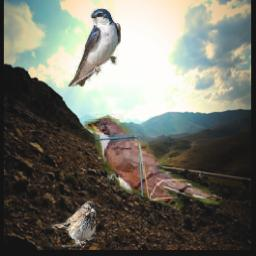Cuckoo: (83, 113, 223, 215)
Sparrow: (45, 201, 96, 248)
Swallow: (69, 8, 122, 88)
